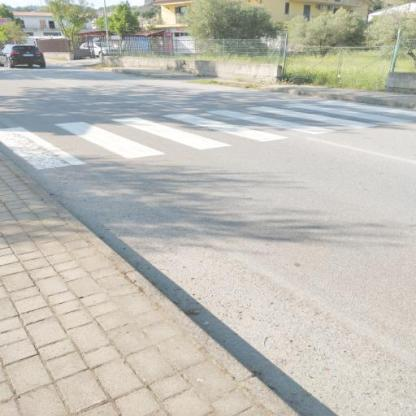crosswalk: (52, 113, 240, 162)
